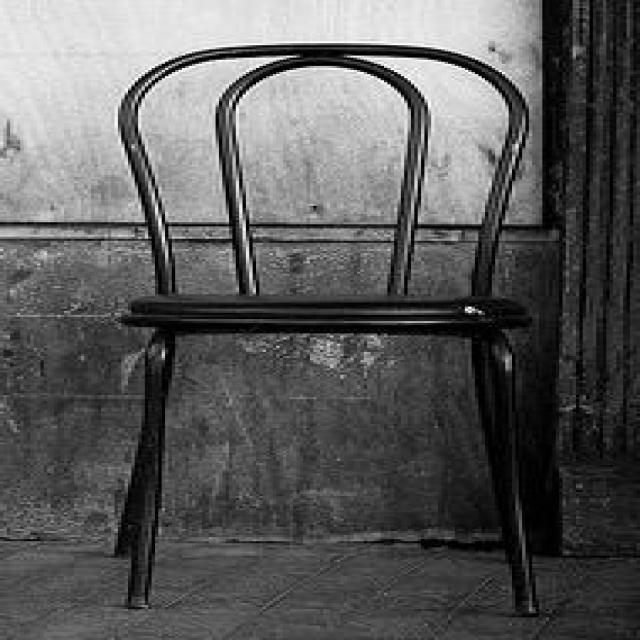chair: (106, 41, 536, 611)
